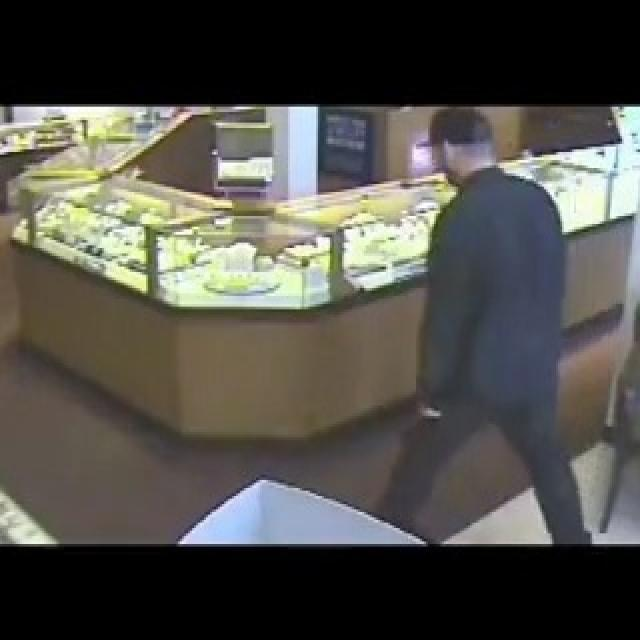Normal: (360, 106, 599, 546)
